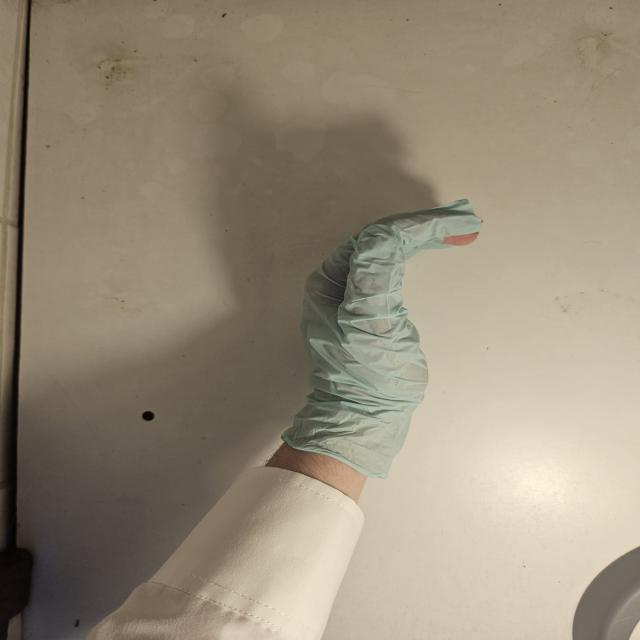gloves_damaged: (272, 195, 486, 481)
